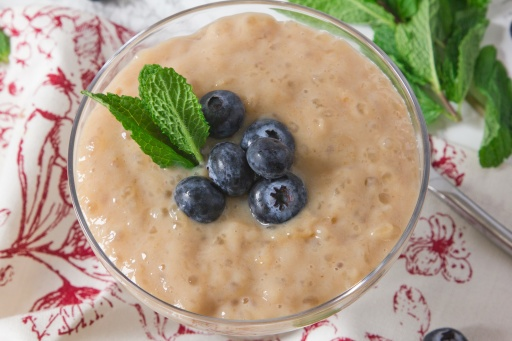background: (59, 0, 409, 170)
